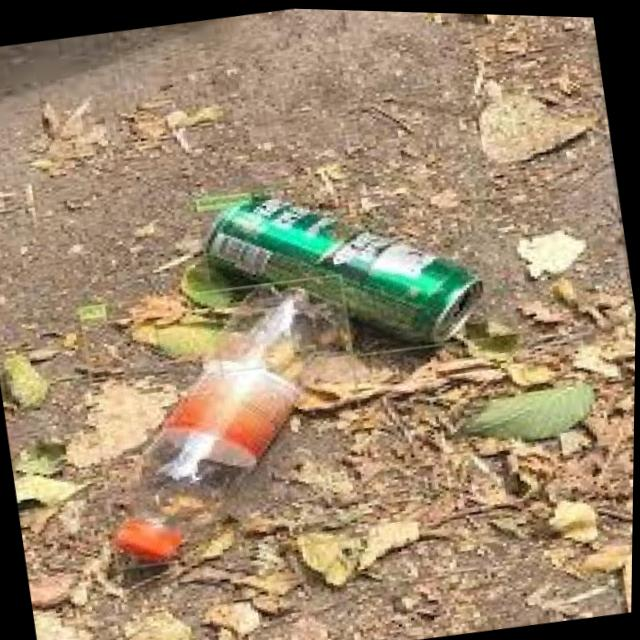clothes: (192, 146, 524, 379)
leaf: (77, 273, 358, 574)
